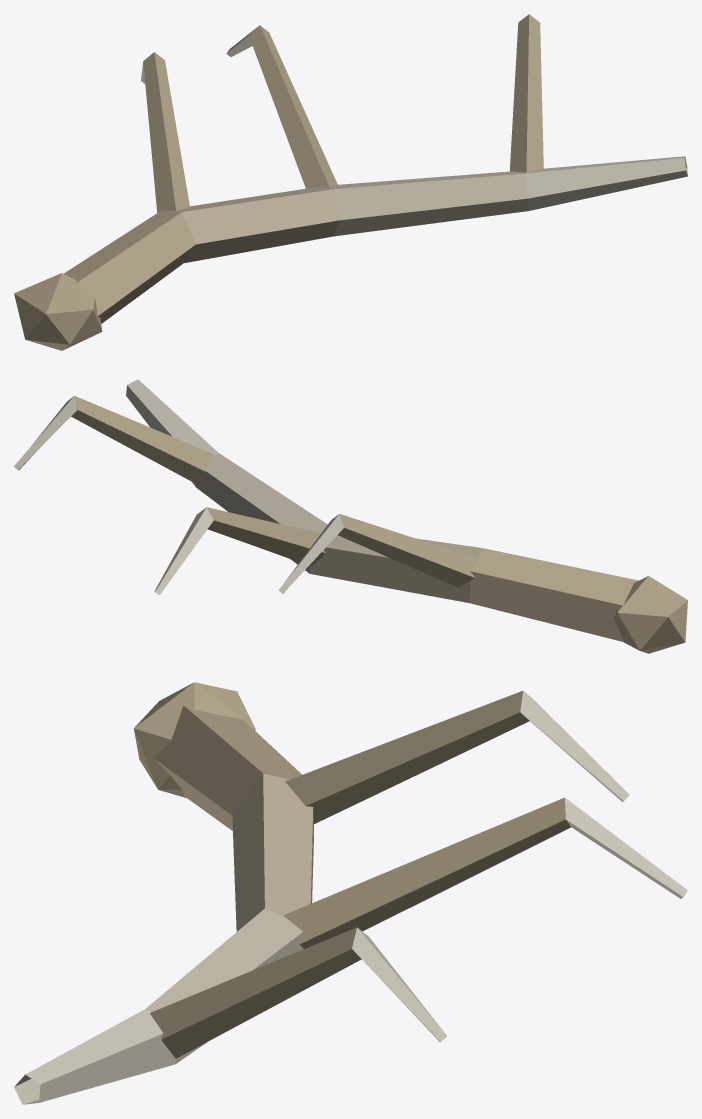
File: shed_antler.glb
3 renders of one model, top to bottom at view 1: azimuth 30°, elevation 25°; view 2: azimuth 150°, elevation 25°; view 3: azimuth 270°, elevation 25°, orthographic. The views are drawn at different scales.
Parts seen in each view (by area): view 1: shed_antler; view 2: shed_antler; view 3: shed_antler.
Part boxes in pixels (box(x1,y1,x2,y2)): shed_antler: box(14, 14, 687, 350); shed_antler: box(14, 379, 687, 653); shed_antler: box(14, 682, 687, 1104).
Size of the model in its own units: 0.515 by 0.1374 by 0.3246.
